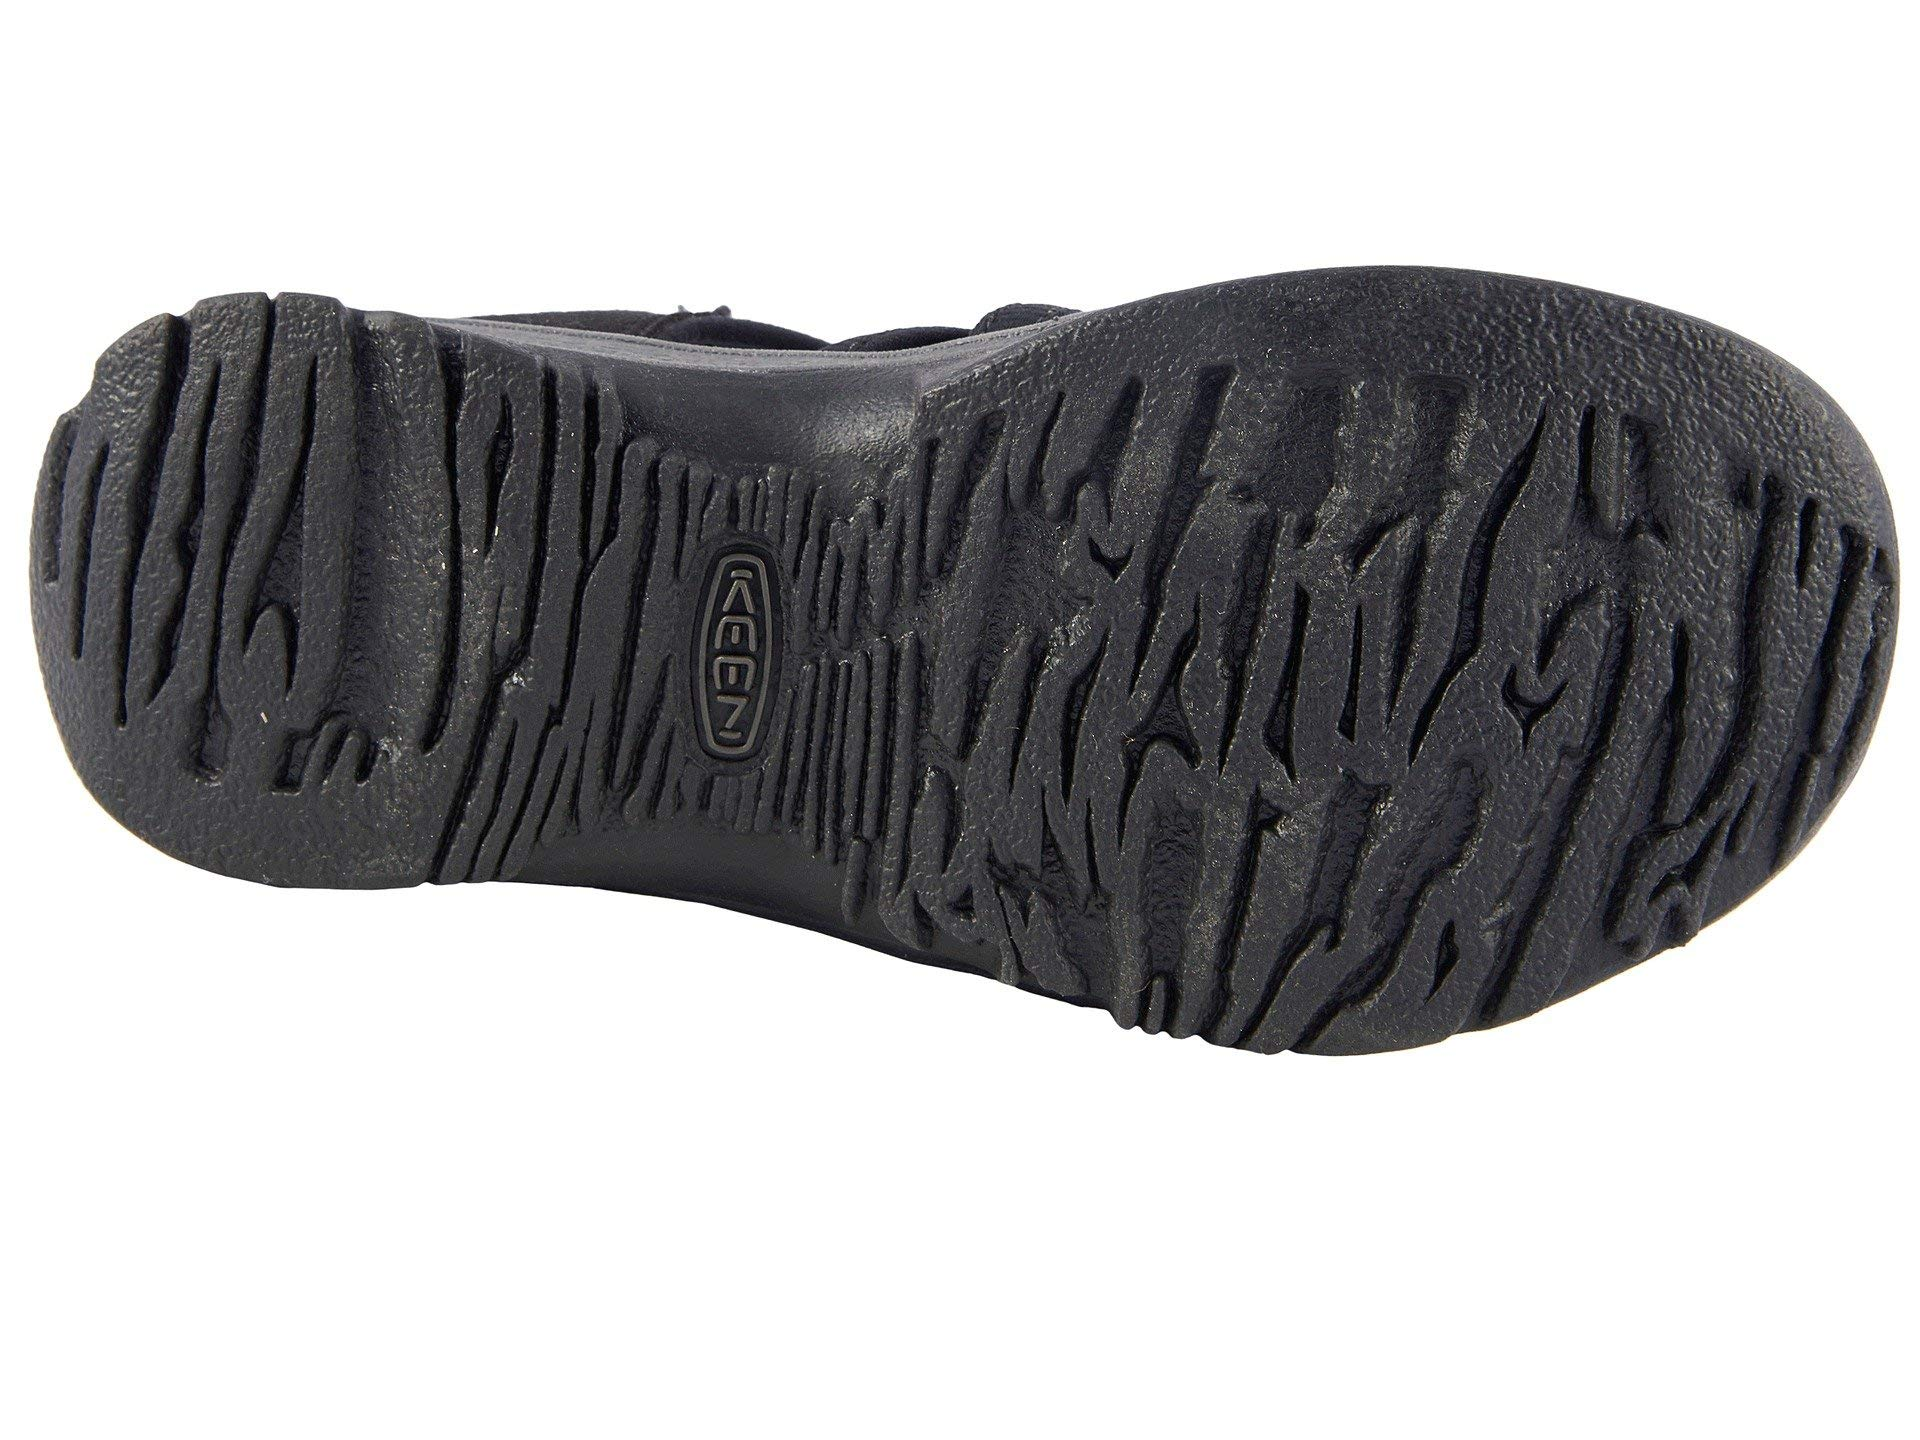line: (571, 502, 909, 808)
text: (571, 502, 909, 808)
